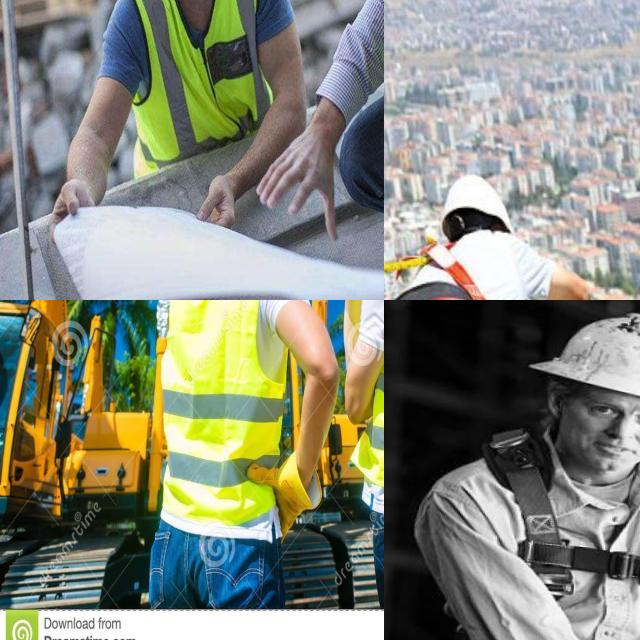Harness: (484, 429, 640, 596), (396, 245, 489, 300)
hand_glove: (247, 454, 324, 540)
hand_noglove: (265, 90, 347, 240), (43, 172, 99, 236), (200, 171, 243, 238)
person: (69, 0, 293, 200), (170, 300, 311, 601)
vest: (126, 0, 289, 155), (171, 300, 276, 523)
